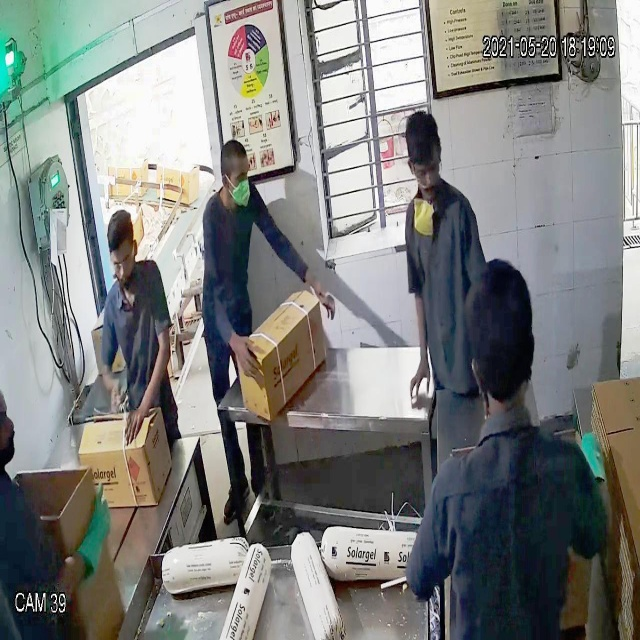Gafas: (410, 163, 444, 185), (109, 247, 136, 274)
Sin_gafas: (220, 170, 253, 187)
